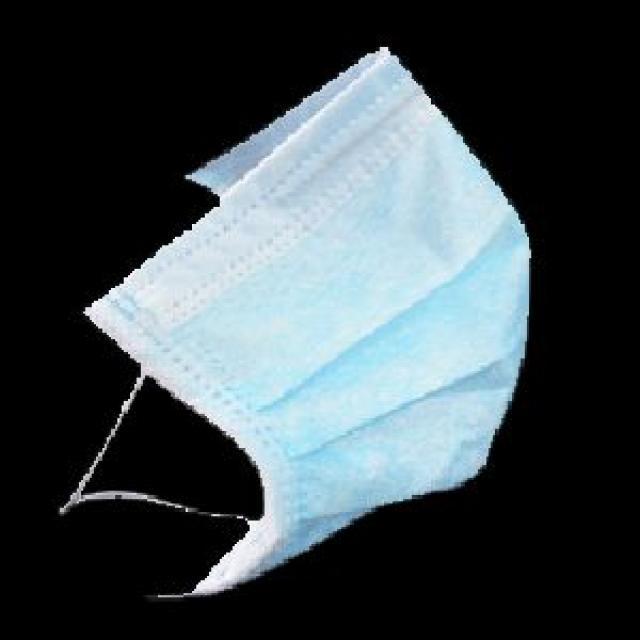non-organic waste: (66, 51, 540, 604)
